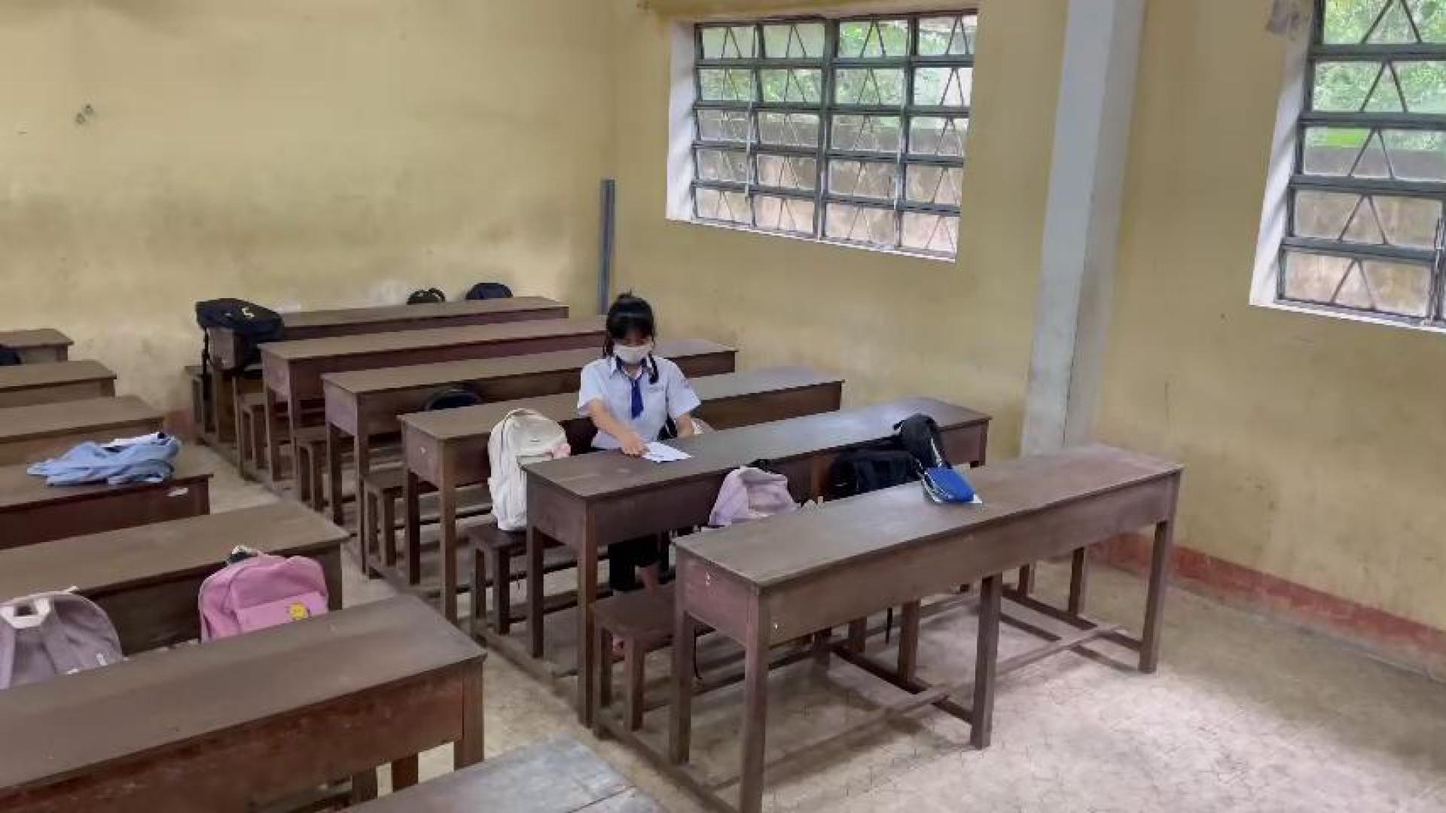Hand Under Table: (659, 352, 706, 449)
